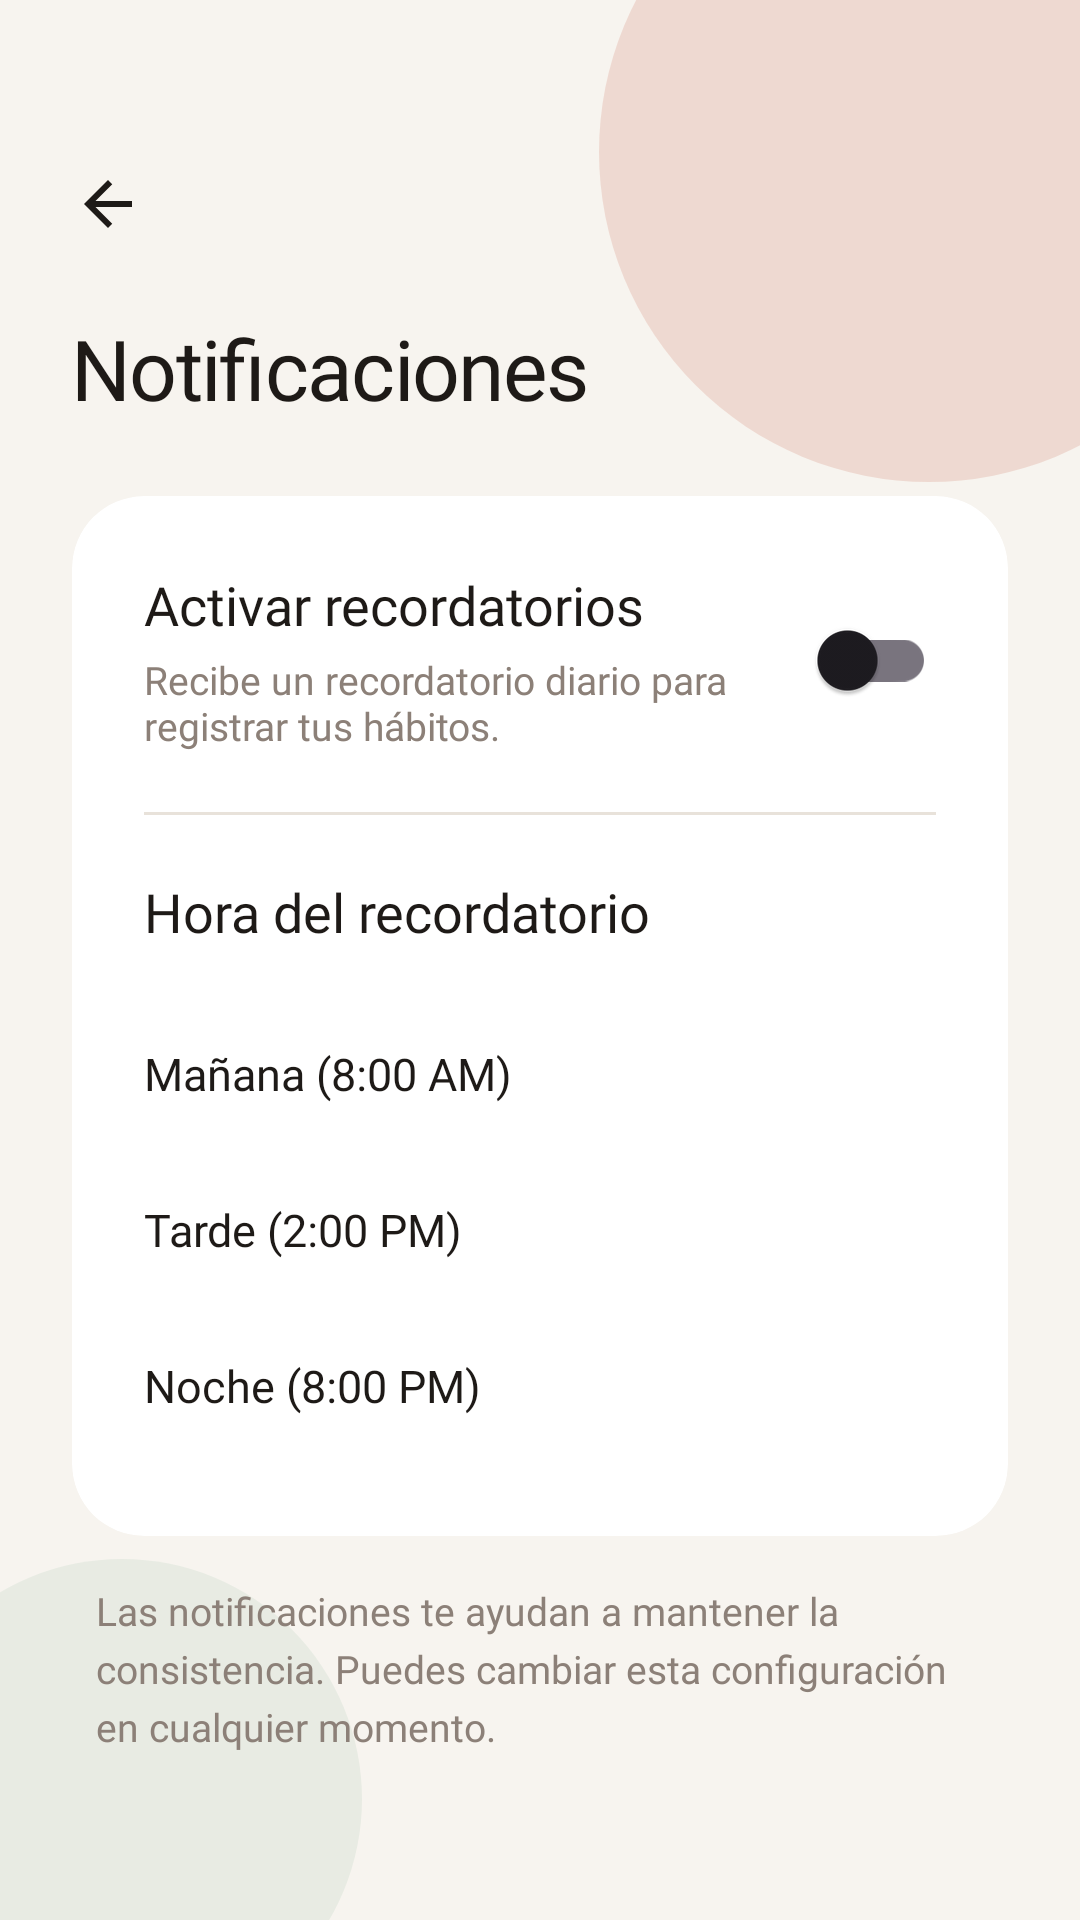

Locate icon controls on the screen. Image size 1080w x 1920h, boxes as [x1,y1,x2,y2].
Regresar: [84,180,132,228]
